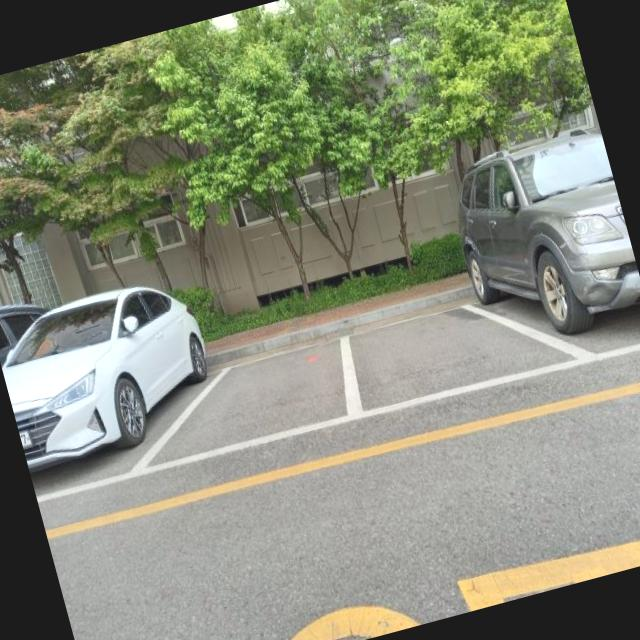car: (0, 271, 235, 491), (442, 126, 640, 355)
free: (340, 278, 582, 423), (124, 338, 368, 479)
